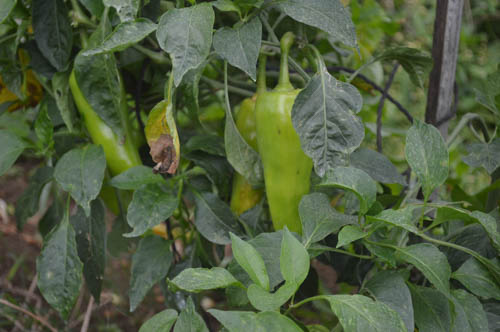ChiliPepper: (259, 92, 315, 235), (71, 72, 144, 177), (229, 101, 261, 218)
